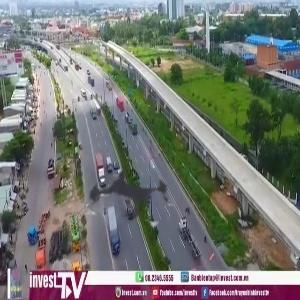drone: (64, 126, 203, 265)
